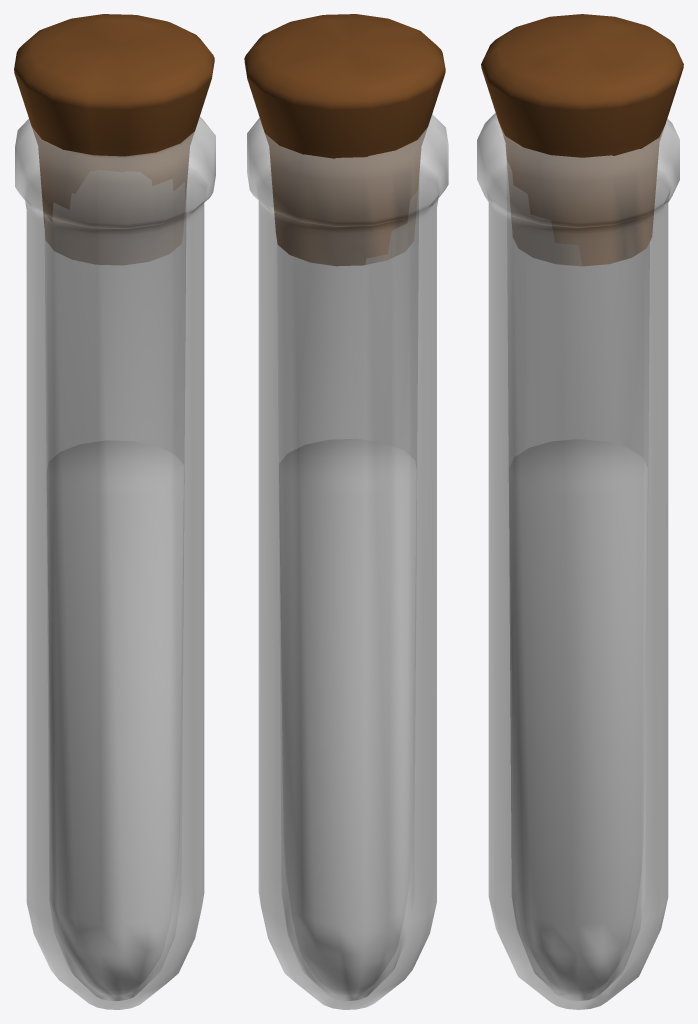
Rendered from FrascoCilindrico.fbx.
3 renders of one model, left to right at view 1: azimuth 30°, elevation 25°; view 2: azimuth 150°, elevation 25°; view 3: azimuth 270°, elevation 25°, orthographic.
Parts seen in each view (by area): view 1: TuboAlambique, LiquidoAlambique, TampaCaldeirao.001; view 2: TuboAlambique, LiquidoAlambique, TampaCaldeirao.001; view 3: TuboAlambique, LiquidoAlambique, TampaCaldeirao.001.
Boxes of the visible parts, <box> form: TuboAlambique: <box>15,116,215,1009</box>; LiquidoAlambique: <box>47,440,183,994</box>; TampaCaldeirao.001: <box>14,14,214,264</box>; TuboAlambique: <box>247,114,448,1009</box>; LiquidoAlambique: <box>279,439,416,994</box>; TampaCaldeirao.001: <box>244,14,445,266</box>; TuboAlambique: <box>477,113,679,1009</box>; LiquidoAlambique: <box>509,439,647,994</box>; TampaCaldeirao.001: <box>481,14,683,266</box>.
Size of the model in its own units: 18.8 by 96.82 by 19.06.
